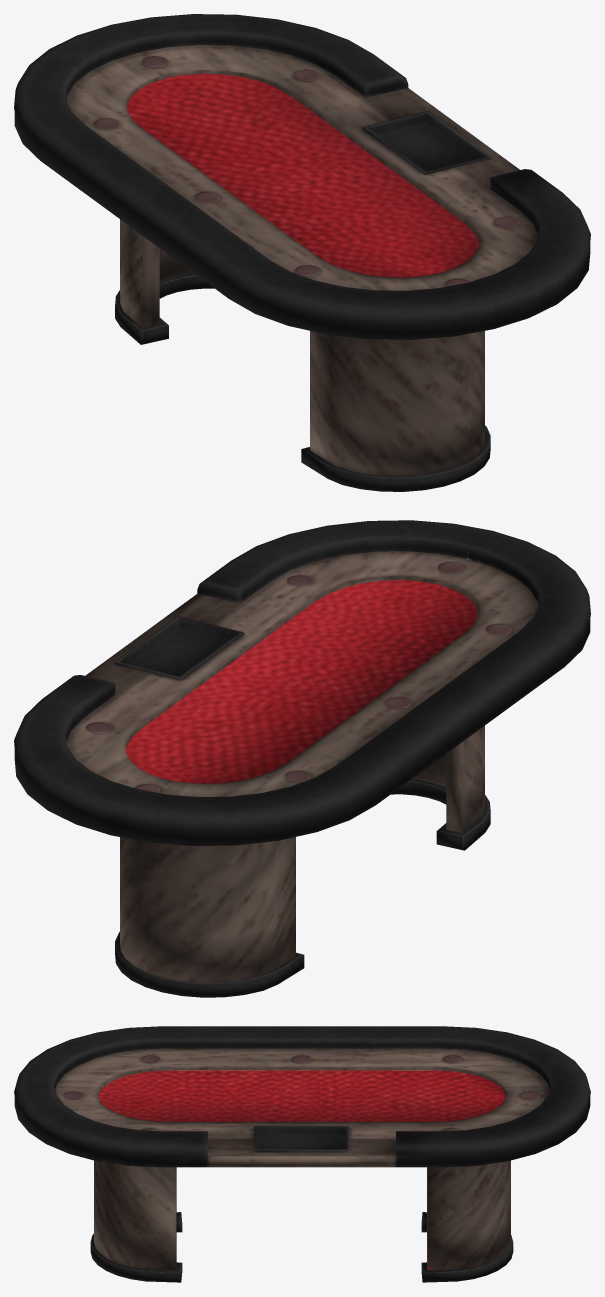
File: best_poker_table.glb
3 renders of one model, top to bottom at view 1: azimuth 30°, elevation 25°; view 2: azimuth 150°, elevation 25°; view 3: azimuth 270°, elevation 25°, orthographic. The views are drawn at different scales.
Parts seen in each view (by area): view 1: tabletop_low_Mesh.010, tabletop_low_Mesh.012, tabletop_low_Mesh.007, tabletop_low_Mesh.029, tabletop_low_Mesh.003, tabletop_low_Mesh.011, tabletop_low_Mesh.043, tabletop_low_Mesh.004, tabletop_low_Mesh.018, tabletop_low_Mesh.027, tabletop_low_Mesh.032, tabletop_low_Mesh.009 (+5 smaller); view 2: tabletop_low_Mesh.010, tabletop_low_Mesh.012, tabletop_low_Mesh.007, tabletop_low_Mesh.027, tabletop_low_Mesh.003, tabletop_low_Mesh.014, tabletop_low_Mesh.037, tabletop_low_Mesh.001, tabletop_low_Mesh.018, tabletop_low_Mesh.029, tabletop_low_Mesh.031, tabletop_low_Mesh.009 (+5 smaller); view 3: tabletop_low_Mesh.010, tabletop_low_Mesh.007, tabletop_low_Mesh.012, tabletop_low_Mesh.027, tabletop_low_Mesh.029, tabletop_low_Mesh.013, tabletop_low_Mesh.001, tabletop_low_Mesh.004, tabletop_low_Mesh.006, tabletop_low_Mesh.015, tabletop_low_Mesh.018, tabletop_low_Mesh.037 (+5 smaller).
Boxes of the visible parts, x1,y1,x2,y2 form: tabletop_low_Mesh.010: [127, 73, 478, 277]; tabletop_low_Mesh.012: [16, 14, 588, 314]; tabletop_low_Mesh.007: [66, 45, 538, 290]; tabletop_low_Mesh.029: [310, 331, 484, 476]; tabletop_low_Mesh.003: [14, 84, 494, 339]; tabletop_low_Mesh.011: [137, 33, 365, 97]; tabletop_low_Mesh.043: [301, 438, 490, 491]; tabletop_low_Mesh.004: [493, 228, 590, 328]; tabletop_low_Mesh.018: [377, 122, 475, 170]; tabletop_low_Mesh.027: [120, 219, 142, 327]; tabletop_low_Mesh.032: [142, 236, 159, 327]; tabletop_low_Mesh.009: [167, 69, 478, 240]; tabletop_low_Mesh.010: [126, 580, 477, 783]; tabletop_low_Mesh.012: [16, 520, 588, 820]; tabletop_low_Mesh.007: [66, 551, 538, 796]; tabletop_low_Mesh.027: [120, 837, 295, 982]; tabletop_low_Mesh.003: [110, 590, 590, 845]; tabletop_low_Mesh.014: [240, 539, 467, 603]; tabletop_low_Mesh.037: [115, 942, 304, 997]; tabletop_low_Mesh.001: [14, 734, 111, 835]; tabletop_low_Mesh.018: [130, 628, 228, 676]; tabletop_low_Mesh.029: [463, 725, 484, 832]; tabletop_low_Mesh.031: [446, 741, 463, 833]; tabletop_low_Mesh.009: [126, 576, 437, 746]; tabletop_low_Mesh.010: [98, 1070, 506, 1121]; tabletop_low_Mesh.007: [55, 1048, 549, 1156]; tabletop_low_Mesh.012: [16, 1026, 588, 1147]; tabletop_low_Mesh.027: [427, 1160, 510, 1269]; tabletop_low_Mesh.029: [94, 1160, 175, 1269]; tabletop_low_Mesh.013: [54, 1039, 550, 1089]; tabletop_low_Mesh.001: [396, 1088, 590, 1167]; tabletop_low_Mesh.004: [14, 1088, 207, 1167]; tabletop_low_Mesh.006: [208, 1156, 395, 1167]; tabletop_low_Mesh.015: [98, 1067, 506, 1095]; tabletop_low_Mesh.018: [257, 1134, 346, 1148]; tabletop_low_Mesh.037: [422, 1242, 513, 1282].
Bounding box in the file's own units: 2.2 × 1.38 × 4.34.
1 material, 1 textured.
